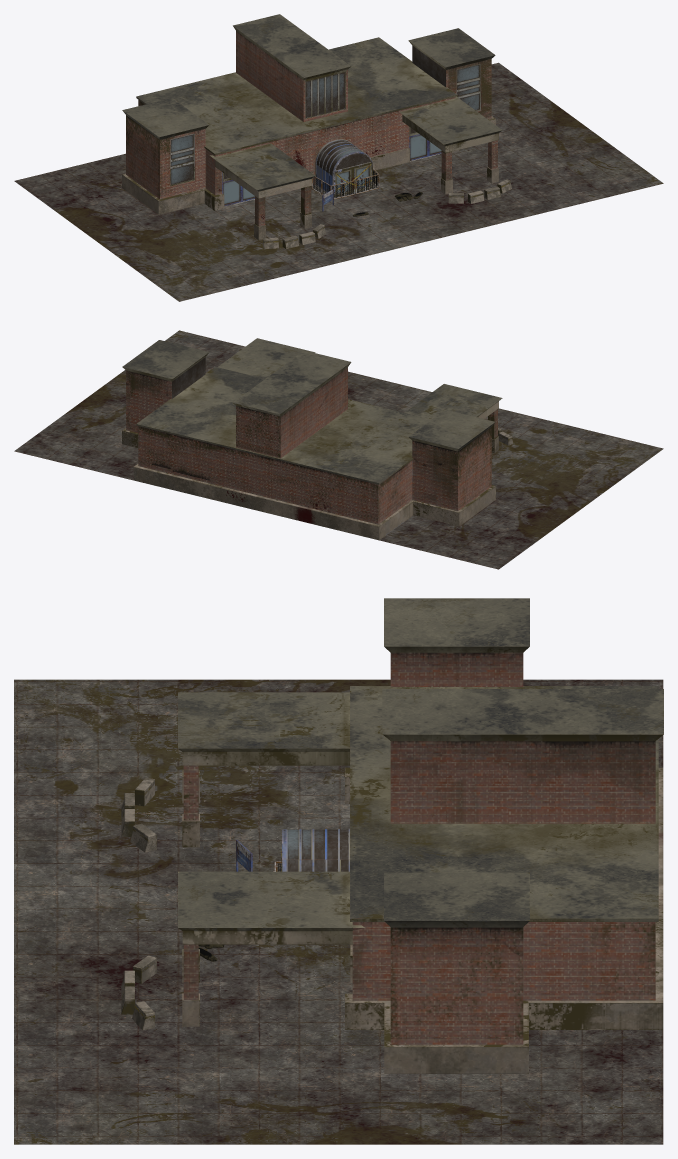
File: npc_zombie_hospital.glb
3 renders of one model, top to bottom at view 1: azimuth 30°, elevation 25°; view 2: azimuth 150°, elevation 25°; view 3: azimuth 270°, elevation 25°, orthographic. The views are drawn at different scales.
Parts seen in each view (by area): view 1: Hospital_Baked_0, Gate_Baked_1, Main doors_Baked_6, Door fences_Baked_3, Concrete barriers_Baked.002_Baked_8, Concrete barriers_Baked_Baked_5; view 2: Hospital_Baked_0, Gate_Baked_1; view 3: Hospital_Baked_0, Gate_Baked_1, Concrete barriers_Baked_Baked_5, Concrete barriers_Baked.002_Baked_8.
Boxes of the visible parts, x1,y1,x2,y2 form: Hospital_Baked_0: [122, 14, 502, 240]; Gate_Baked_1: [14, 62, 663, 301]; Main doors_Baked_6: [222, 134, 441, 206]; Door fences_Baked_3: [311, 168, 379, 199]; Concrete barriers_Baked.002_Baked_8: [263, 224, 326, 249]; Concrete barriers_Baked_Baked_5: [448, 179, 511, 203]; Hospital_Baked_0: [122, 338, 502, 540]; Gate_Baked_1: [14, 330, 663, 569]; Hospital_Baked_0: [178, 598, 663, 1073]; Gate_Baked_1: [14, 679, 663, 1144]; Concrete barriers_Baked_Baked_5: [121, 955, 156, 1030]; Concrete barriers_Baked.002_Baked_8: [121, 777, 156, 852].
Size of the model in its own units: 72.64 by 14.68 by 42.91.
11 materials, 11 textured.
